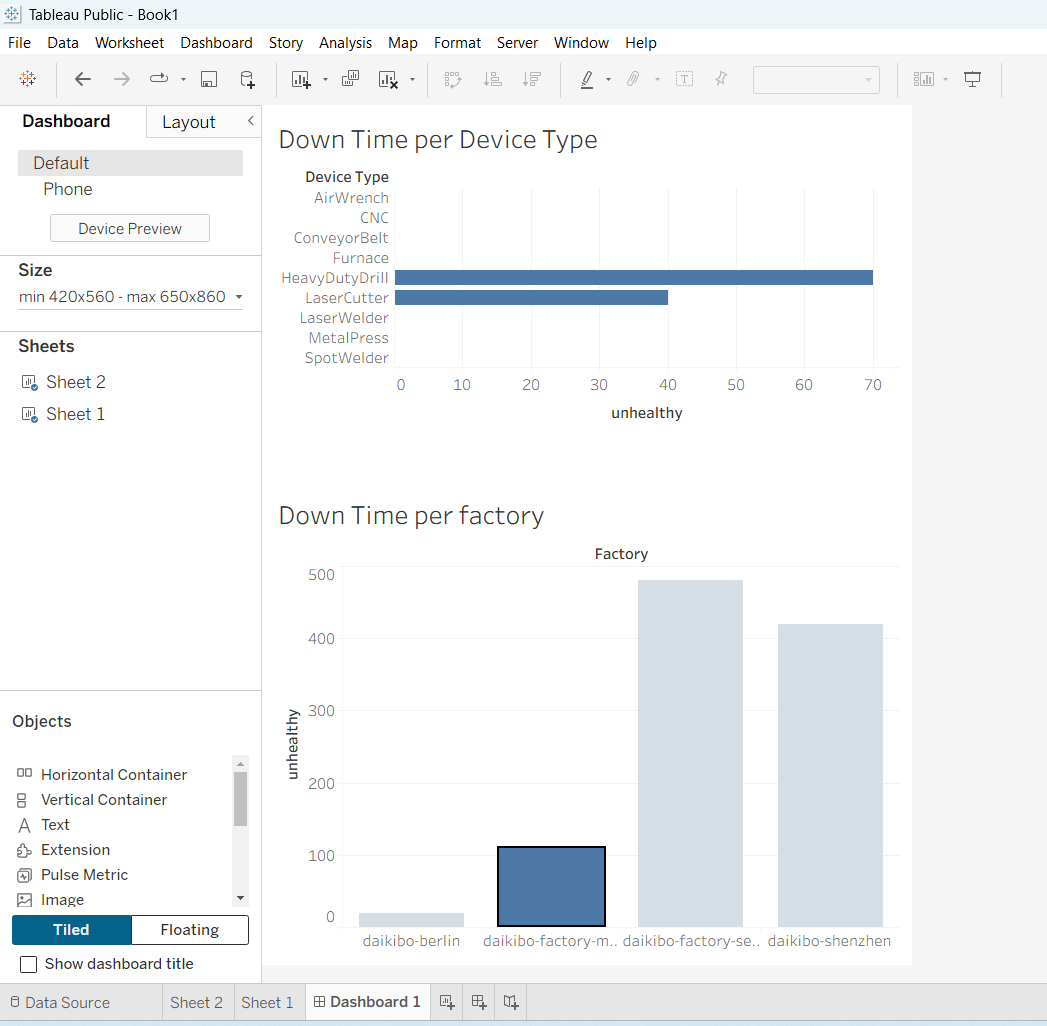

This screenshot's page, from the dashboard's own definition file:
{"tool":"tableau","page":{"name":"Dashboard 1","canvas":[650,860],"ordinal":0},"visuals":[{"type":"worksheet","title":"Sheet 2","mark":"Bar","rows":["deviceType"],"cols":["Calculation_0608591829897216"],"box":[8,8,634,422]},{"type":"worksheet","title":"Sheet 1","mark":"Bar","rows":["Calculation_0608591829897216"],"cols":["factory"],"box":[8,430,634,422]}]}

Visuals, with their boxes on the page's 650x860 design canvas (x1, y1, x2, y2). These are canvas units, not pixel positions in the 1047x1026 screenshot, which may show the page scaled, cropped or inside an application window:
"Sheet 2" worksheet (Bar marks): left=8, top=8, right=642, bottom=430
"Sheet 1" worksheet (Bar marks): left=8, top=430, right=642, bottom=852
